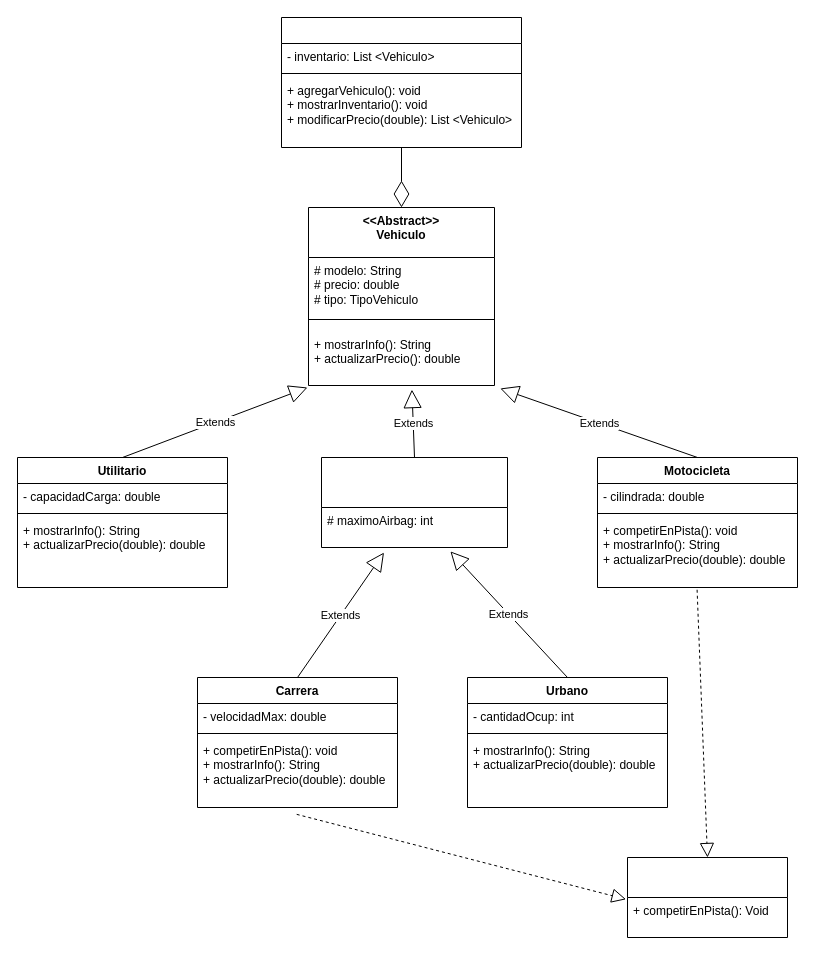
Some shapes in this 815 by 958 pixel diagram are drawn without their labels. Each missing label, with the box of its shape:
<<Abstract>> Automovil: (320, 456, 508, 548)
ServiceVehiculo: (280, 16, 522, 148)
«interface» Deportivo: (626, 856, 788, 938)
